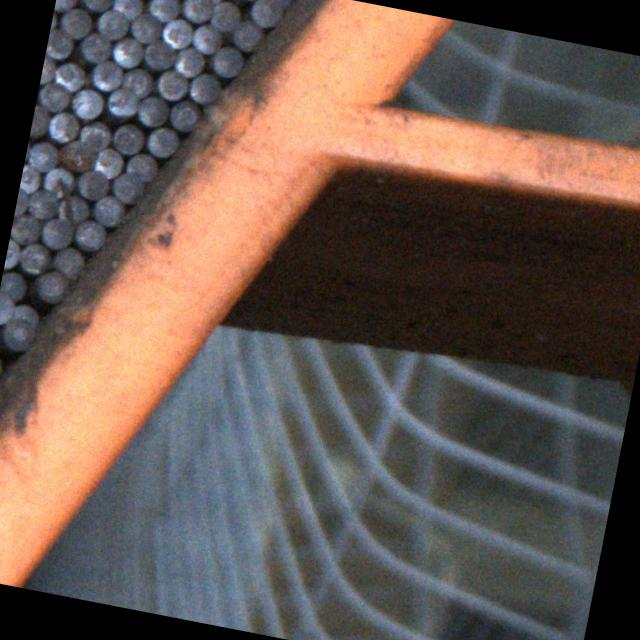tool: (109, 170, 148, 207), (37, 214, 74, 252), (119, 64, 157, 101), (31, 268, 70, 304), (48, 244, 88, 279), (110, 120, 148, 156), (210, 42, 246, 80), (74, 166, 111, 202), (166, 97, 203, 133), (172, 43, 208, 80), (59, 137, 97, 172), (0, 315, 36, 351), (153, 67, 190, 102), (58, 5, 95, 40), (186, 71, 224, 105), (18, 240, 53, 276), (72, 216, 107, 252), (24, 186, 60, 221), (36, 79, 72, 114), (90, 58, 126, 93), (78, 30, 114, 65), (95, 5, 131, 40), (50, 58, 87, 92), (54, 193, 92, 226), (161, 16, 196, 51), (90, 194, 126, 228), (90, 146, 126, 180), (146, 124, 182, 158), (110, 34, 144, 70), (129, 10, 165, 44), (41, 164, 76, 198), (26, 138, 60, 173), (78, 117, 113, 151), (136, 94, 170, 129), (46, 110, 80, 144), (70, 86, 104, 120), (106, 83, 140, 117), (142, 38, 176, 72), (232, 20, 268, 52), (9, 212, 42, 246), (191, 20, 224, 54), (208, 0, 242, 33), (126, 151, 160, 183), (0, 268, 30, 304), (46, 27, 76, 62), (248, 0, 284, 28), (10, 301, 42, 330), (180, 0, 216, 25), (148, 0, 183, 24), (110, 0, 147, 21), (19, 163, 43, 195), (29, 106, 52, 139), (4, 237, 24, 270), (0, 291, 16, 325), (40, 54, 56, 85), (79, 0, 115, 13), (54, 0, 81, 15), (262, 0, 294, 11)
